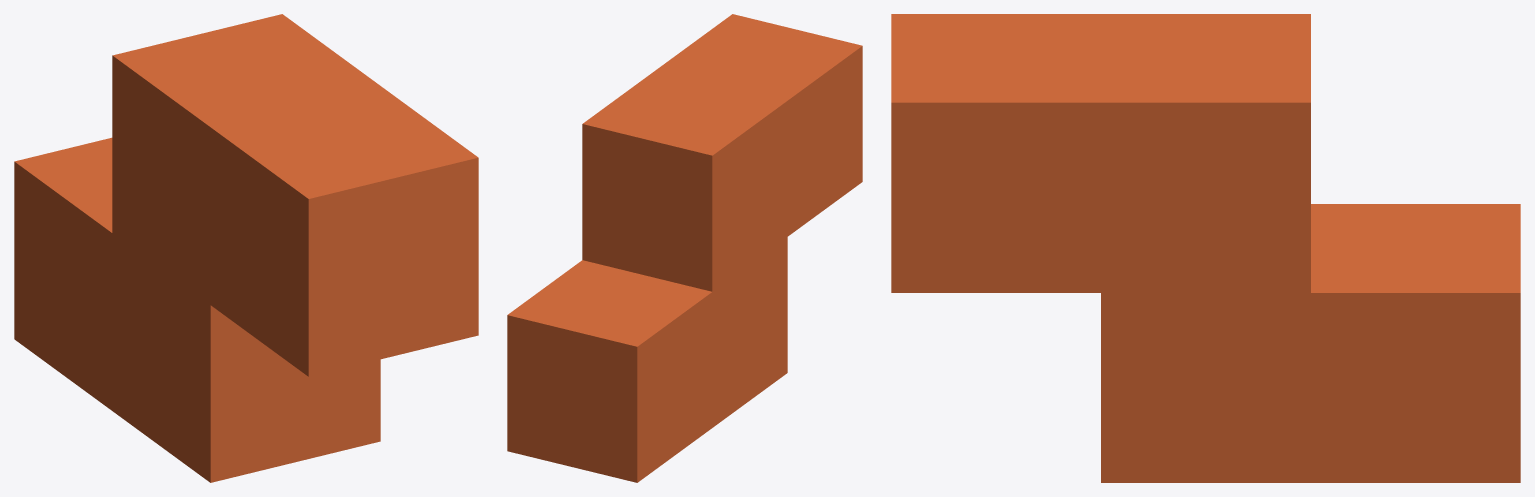
The model's file is Block8.fbx.
The picture shows the model from 3 angles, left to right: view 1: azimuth 30°, elevation 25°; view 2: azimuth 150°, elevation 25°; view 3: azimuth 270°, elevation 25°; orthographic projection. The views are drawn at different scales.
Visible parts, largest first — view 1: Cube.001; view 2: Cube.001; view 3: Cube.001.
Boxes of the visible parts, x1,y1,x2,y2 form: Cube.001: [14, 14, 478, 482]; Cube.001: [507, 14, 862, 482]; Cube.001: [891, 14, 1520, 482].
Size of the model in its own units: 200 by 400 by 600.
